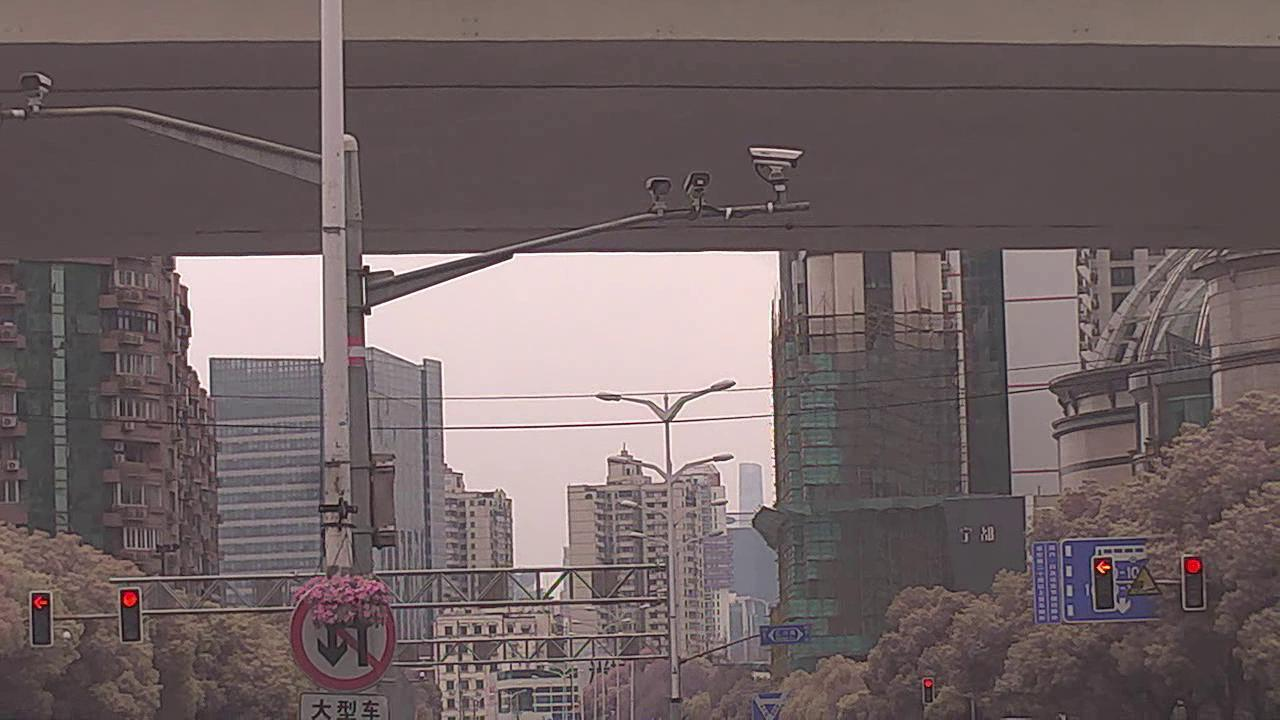traffic_light: (30, 590, 56, 650), (120, 585, 143, 641), (1095, 556, 1116, 609), (1184, 556, 1201, 610)
